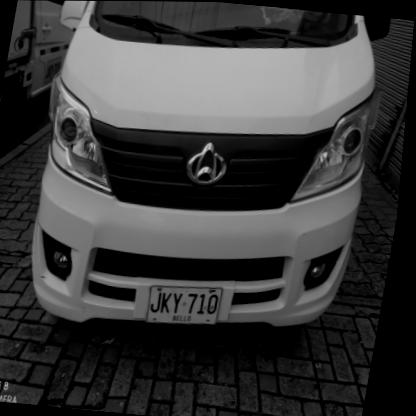placa: (144, 278, 231, 332)
